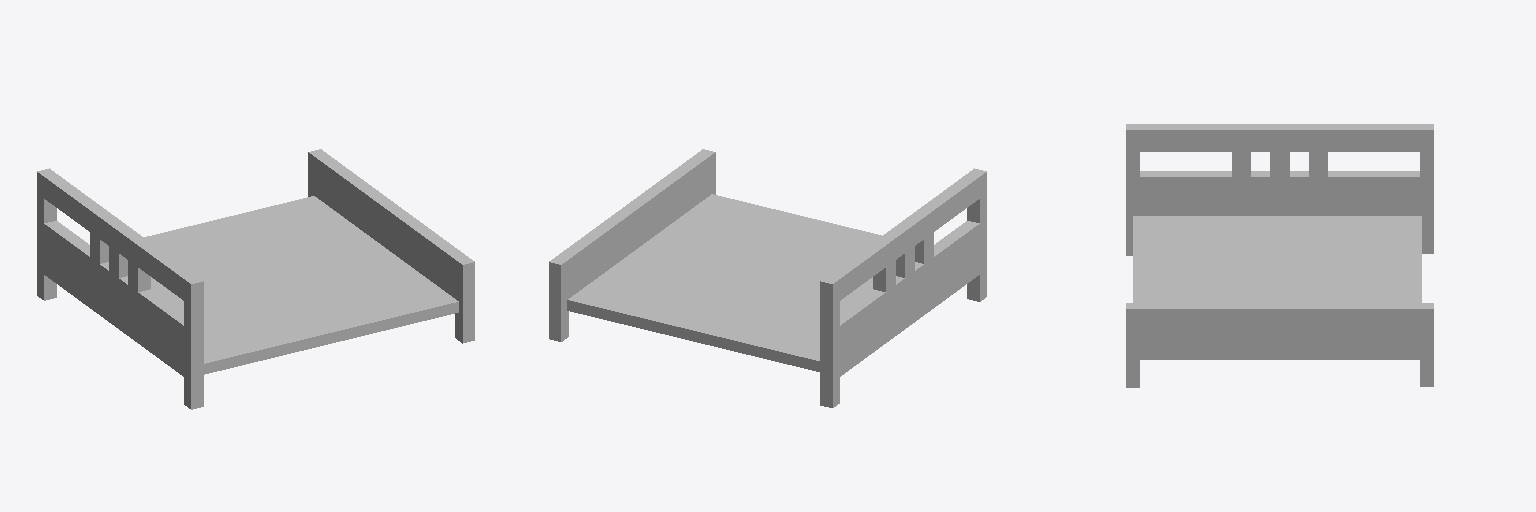
The model's file is Double  Bed.obj.
3 views of the same model, side by side, from view 1: azimuth 30°, elevation 25°; view 2: azimuth 150°, elevation 25°; view 3: azimuth 270°, elevation 25° (orthographic).
Visible parts, largest first — view 1: Bed-Bottom_Cube.011, Back_Board.001_Cube.009, Front_Board.001_Cube.010; view 2: Bed-Bottom_Cube.011, Back_Board.001_Cube.009, Front_Board.001_Cube.010; view 3: Bed-Bottom_Cube.011, Back_Board.001_Cube.009, Front_Board.001_Cube.010.
Boxes of the visible parts, x1=… form: Bed-Bottom_Cube.011: x1=144, y1=196, x2=458, y2=374; Back_Board.001_Cube.009: x1=37, y1=168, x2=203, y2=409; Front_Board.001_Cube.010: x1=308, y1=149, x2=474, y2=343; Bed-Bottom_Cube.011: x1=567, y1=194, x2=881, y2=371; Back_Board.001_Cube.009: x1=820, y1=168, x2=986, y2=407; Front_Board.001_Cube.010: x1=549, y1=149, x2=715, y2=341; Bed-Bottom_Cube.011: x1=1133, y1=216, x2=1421, y2=302; Back_Board.001_Cube.009: x1=1126, y1=124, x2=1433, y2=255; Front_Board.001_Cube.010: x1=1126, y1=303, x2=1433, y2=387.
Size of the model in its own units: 13.6 by 5.74 by 12.8.